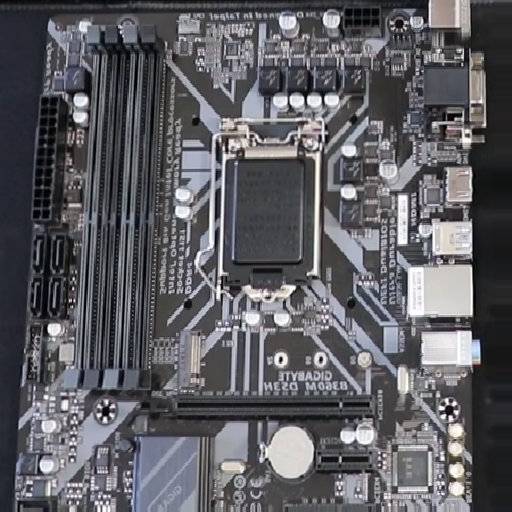CPU: (216, 117, 324, 303)
GPU: (140, 395, 380, 422)
MOTHERBOARD: (12, 3, 470, 512)
RAM: (62, 24, 165, 388)
SSD: (179, 329, 201, 388)
